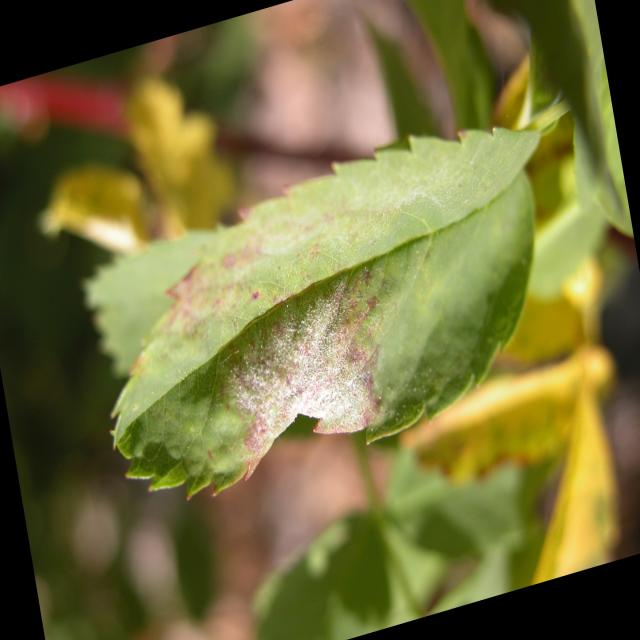Powdery Mildew: (164, 256, 420, 450)
